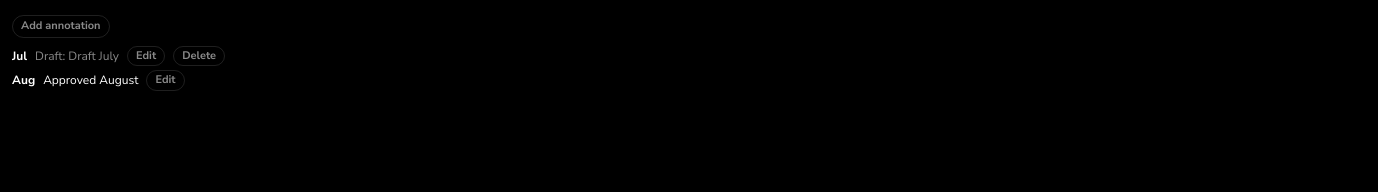
Test: Edit opens the form fixed to that month, filled with its draft, else its approved text
Click the button with aria-label "Edit note" at (166, 81), box x1=146 y1=70 x2=185 y2=91
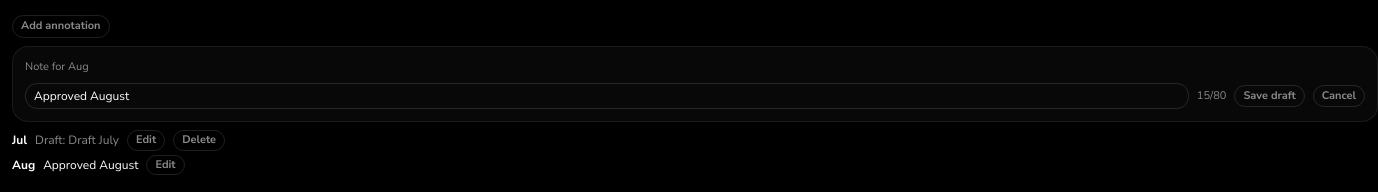
Now the text "Note for Aug" is shown, box x1=25 y1=58 x2=89 y2=74
Now the field named "Note text" holds "Approved August", box x1=25 y1=83 x2=1189 y2=109
Click the button "Cancel" at (1339, 96), box x1=1313 y1=85 x2=1365 y2=107
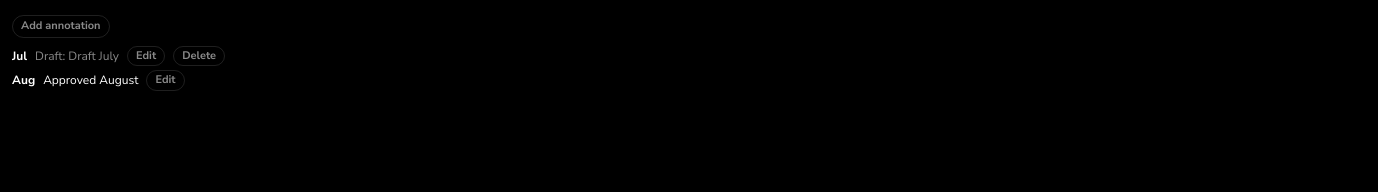
Click the button with aria-label "Edit note" at (146, 56), box x1=127 y1=46 x2=165 y2=66
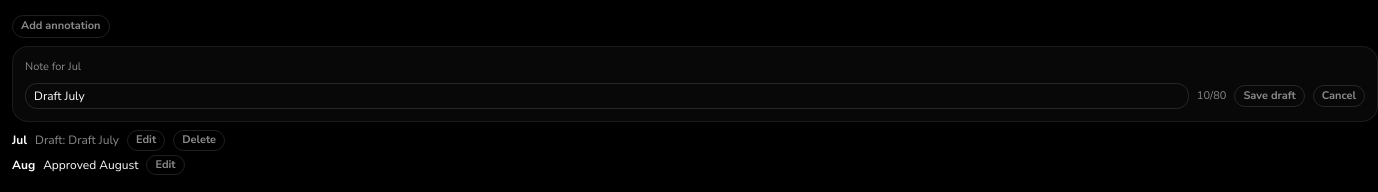
Now the field named "Note text" holds "Draft July", box x1=25 y1=83 x2=1189 y2=109
